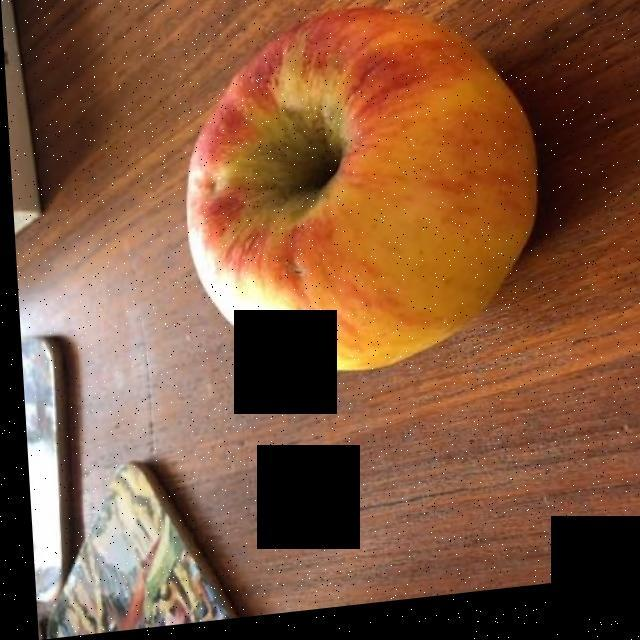apple: (184, 7, 531, 377)
